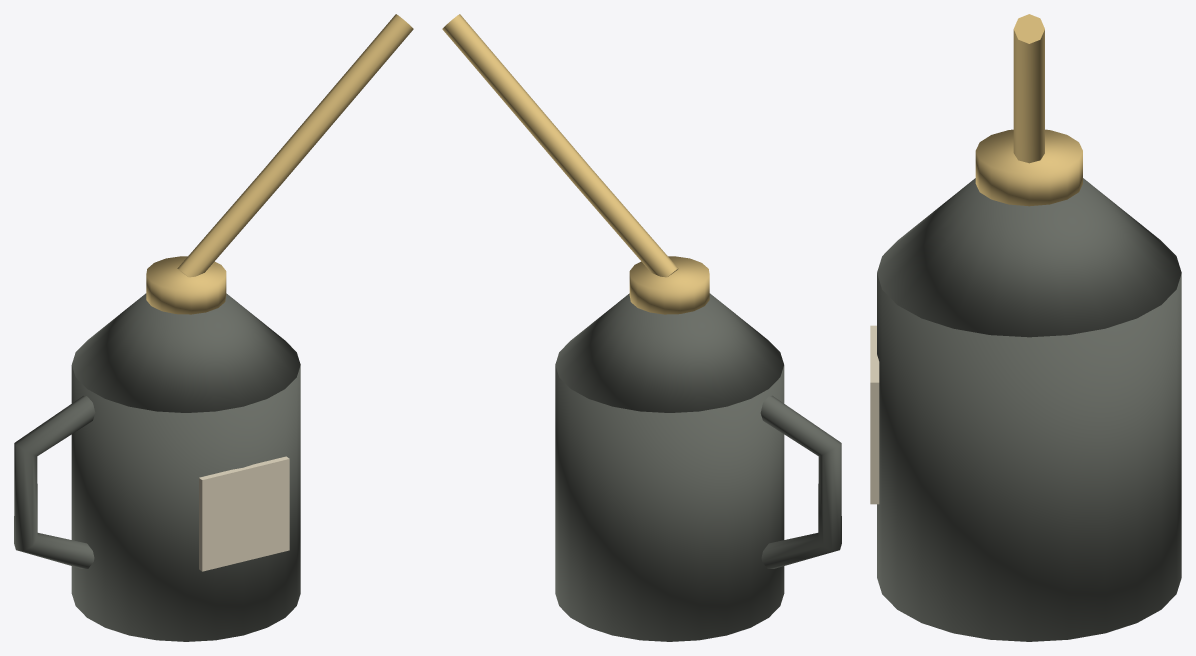
The model's file is Item_gun_oil.fbx.
3 renders of one model, left to right at view 1: azimuth 30°, elevation 25°; view 2: azimuth 150°, elevation 25°; view 3: azimuth 270°, elevation 25°, orthographic. The views are drawn at different scales.
Visible parts, largest first — view 1: model.009; view 2: model.009; view 3: model.009.
Boxes of the visible parts, left/top/right/bottom form: model.009: left=14, top=14, right=413, bottom=641; model.009: left=442, top=14, right=841, bottom=641; model.009: left=870, top=14, right=1181, bottom=641.
Bounding box in the file's own units: 0.1357 × 0.1726 × 0.0695.
